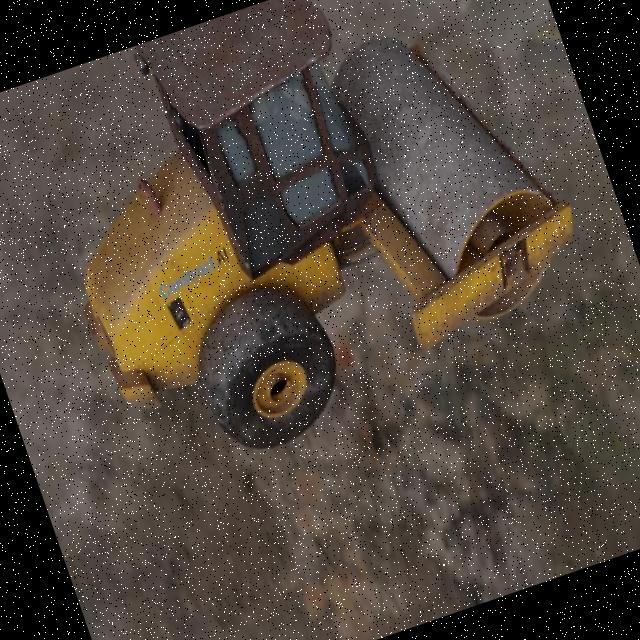Roller: (6, 0, 613, 492)
